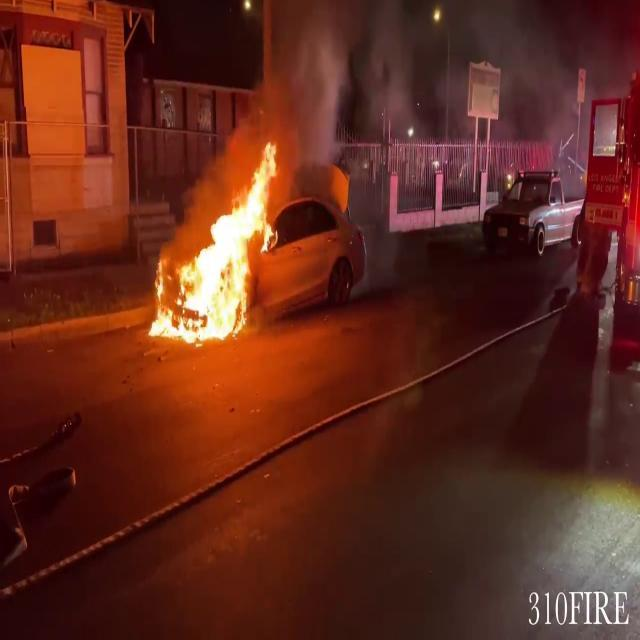Fire: (150, 134, 284, 345)
Smoke: (242, 0, 426, 153)
